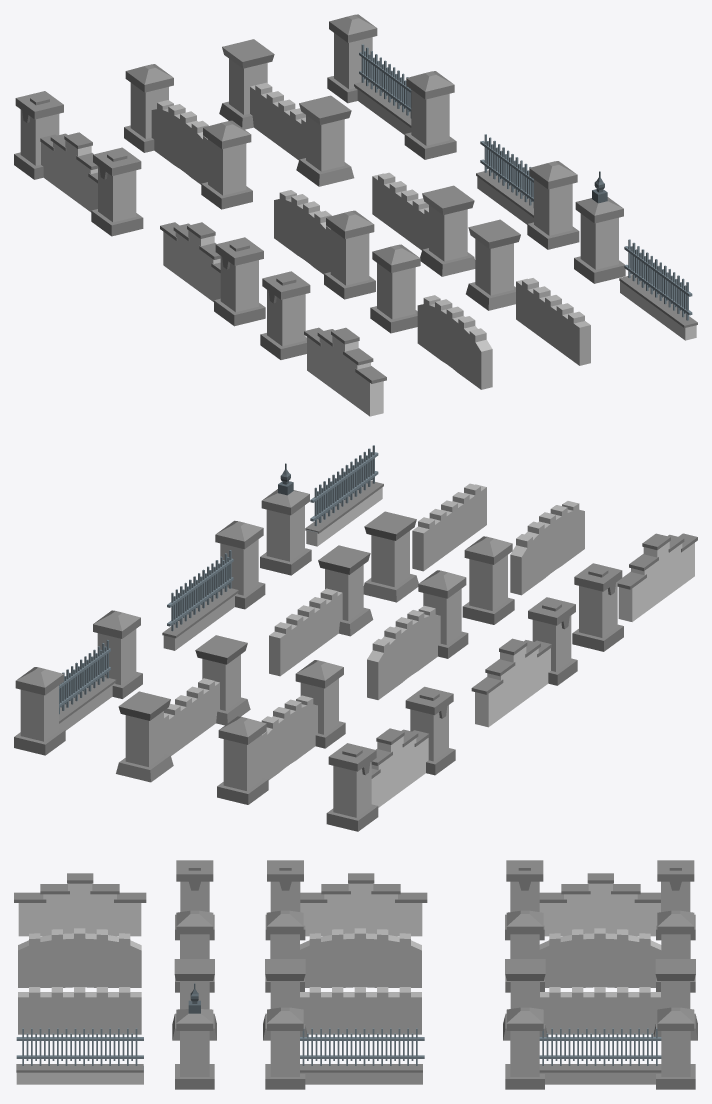
The model's file is Snow_Hedge.fbx.
3 views of the same model, one above another, from view 1: azimuth 30°, elevation 25°; view 2: azimuth 150°, elevation 25°; view 3: azimuth 270°, elevation 25° (orthographic). The views are drawn at different scales.
Parts seen in each view (by area): view 1: Cube.037, Cube.005, Cube.039, Cube.006, Cube.034, Cube.015, Cube.002, Cube.030, Cube.035, Cube.029, Cube.027, Cube.028 (+4 smaller); view 2: Cube.037, Cube.005, Cube.039, Cube.006, Cube.034, Cube.015, Cube.002, Cube.030, Cube.035, Cube.029, Cube.027, Cube.028 (+4 smaller); view 3: Cube.006, Cube.005, Cube.037, Cube.039, Cube.015, Cube.002, Cube.034, Cube.030, Cube.029, Cube.035, Cube.028, Cube.027 (+4 smaller).
Boxes of the visible parts, <box> form: Cube.037: <box>14,91,143,236</box>; Cube.005: <box>124,64,252,209</box>; Cube.039: <box>219,39,354,186</box>; Cube.006: <box>327,14,456,159</box>; Cube.034: <box>160,222,265,326</box>; Cube.015: <box>274,190,375,299</box>; Cube.002: <box>476,134,579,249</box>; Cube.030: <box>372,172,475,276</box>; Cube.035: <box>304,327,386,416</box>; Cube.029: <box>417,295,492,389</box>; Cube.027: <box>619,239,697,340</box>; Cube.028: <box>516,278,590,365</box>; Cube.037: <box>326,686,455,831</box>; Cube.005: <box>217,660,345,804</box>; Cube.039: <box>116,635,250,782</box>; Cube.006: <box>14,610,142,755</box>; Cube.034: <box>471,597,577,727</box>; Cube.015: <box>367,570,468,699</box>; Cube.002: <box>162,520,265,650</box>; Cube.030: <box>269,545,373,676</box>; Cube.035: <box>617,533,697,621</box>; Cube.029: <box>510,501,584,595</box>; Cube.027: <box>305,445,383,546</box>; Cube.028: <box>412,483,486,571</box>; Cube.006: <box>505,1007,695,1089</box>; Cube.005: <box>505,910,695,992</box>; Cube.037: <box>505,860,695,940</box>; Cube.039: <box>503,959,697,1040</box>; Cube.015: <box>265,910,421,992</box>; Cube.002: <box>265,1007,424,1089</box>; Cube.034: <box>265,860,427,940</box>; Cube.030: <box>263,959,421,1040</box>; Cube.029: <box>18,928,141,987</box>; Cube.035: <box>14,873,146,936</box>; Cube.028: <box>18,987,141,1034</box>; Cube.027: <box>16,1028,143,1084</box>.
Size of the model in its own units: 2188 by 612 by 3852.
